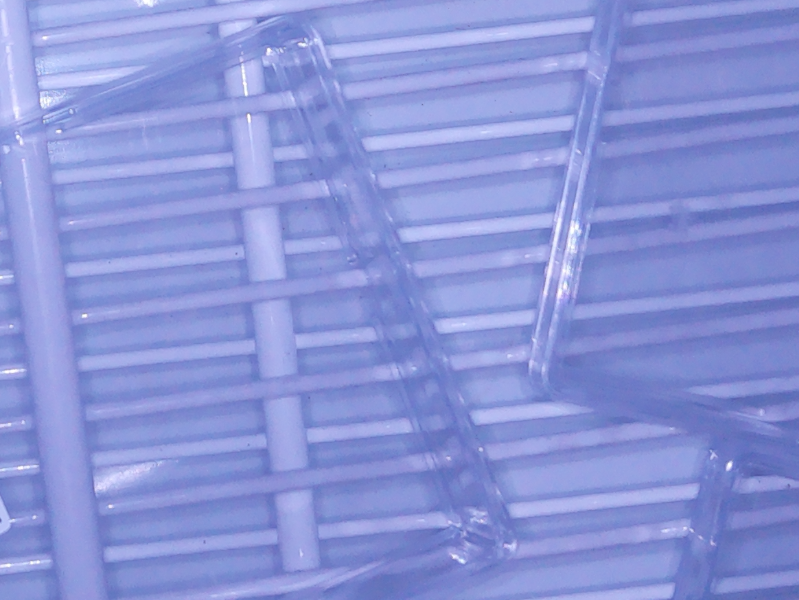plate: (1, 12, 525, 600), (525, 1, 799, 446), (672, 435, 799, 600)
